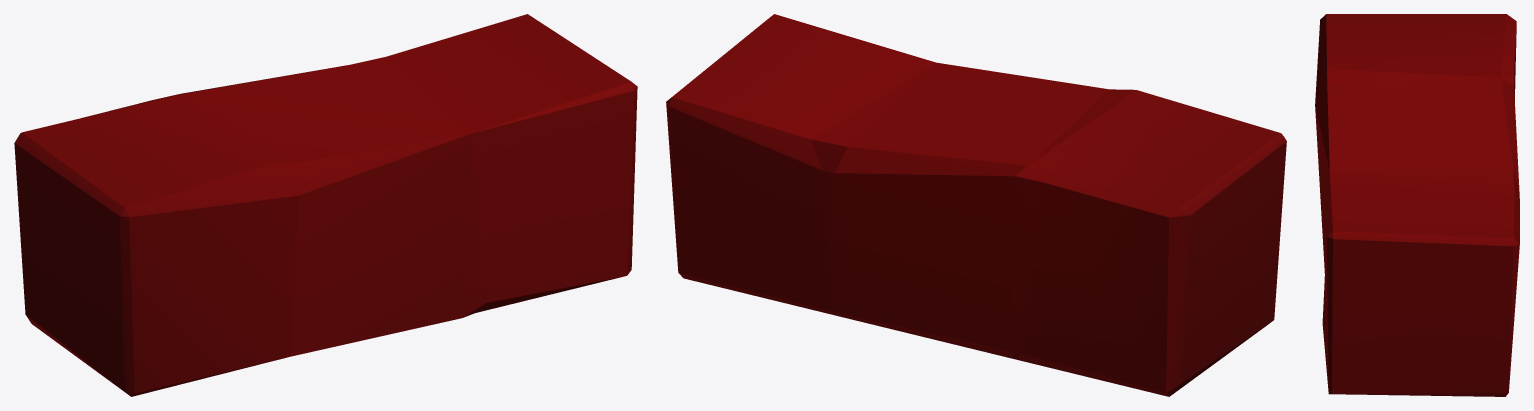
File: geology-carvedstone-stoneblock_v2.fbx
3 renders of one model, left to right at view 1: azimuth 30°, elevation 25°; view 2: azimuth 150°, elevation 25°; view 3: azimuth 270°, elevation 25°, orthographic. The views are drawn at different scales.
Parts seen in each view (by area): view 1: StoneBlock_v2; view 2: StoneBlock_v2; view 3: StoneBlock_v2.
Part boxes in pixels (x1,y1,x2,y2): StoneBlock_v2: (14,14,637,396); StoneBlock_v2: (666,14,1286,396); StoneBlock_v2: (1315,14,1519,396).
Size of the model in its own units: 8.46 by 3.12 by 3.28.
